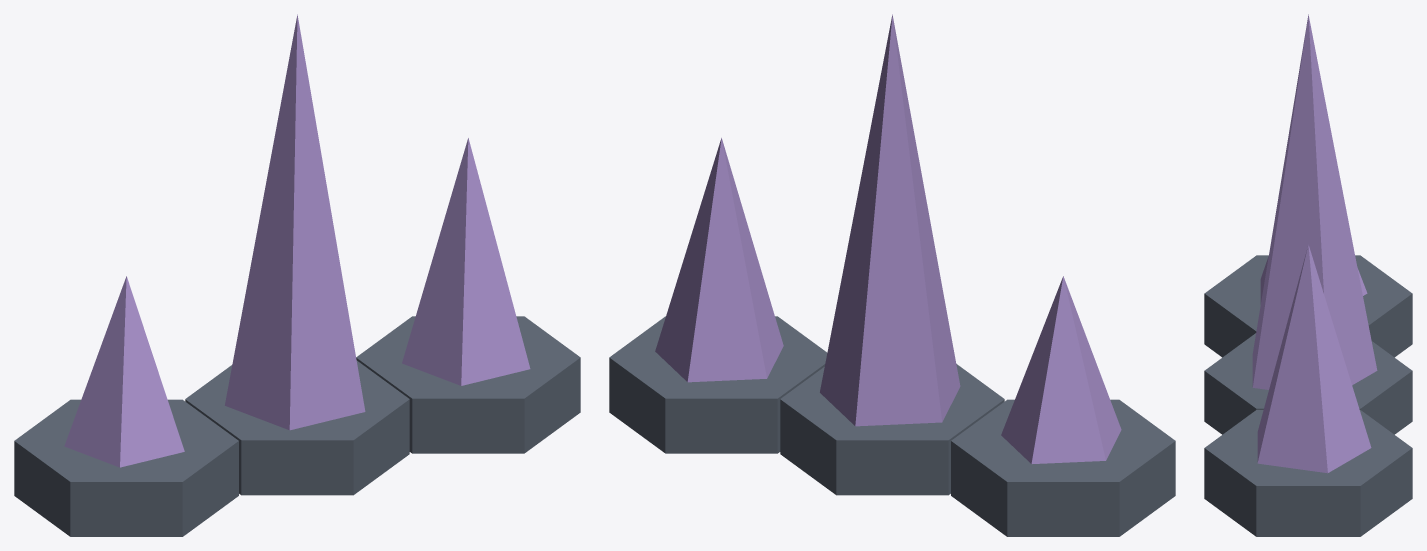
The model's file is architecture.glb.
The picture shows the model from 3 angles, left to right: view 1: azimuth 30°, elevation 25°; view 2: azimuth 150°, elevation 25°; view 3: azimuth 270°, elevation 25°; orthographic projection. The views are drawn at different scales.
Visible parts, largest first — view 1: crystari roof silhouette; view 2: crystari roof silhouette; view 3: crystari roof silhouette.
Boxes of the visible parts, x1,y1,x2,y2 form: crystari roof silhouette: (14, 14, 580, 536); crystari roof silhouette: (609, 14, 1175, 536); crystari roof silhouette: (1204, 14, 1412, 536).
Size of the model in its own units: 1.94 by 1.6 by 0.74.
